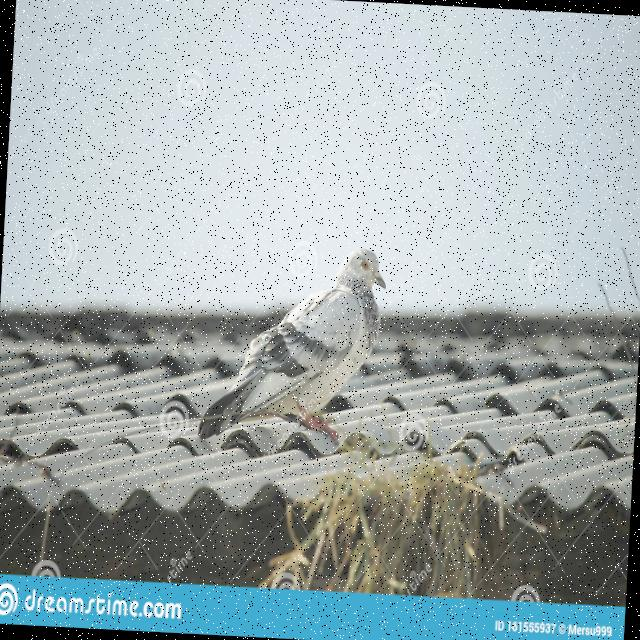bird: (196, 240, 390, 448)
